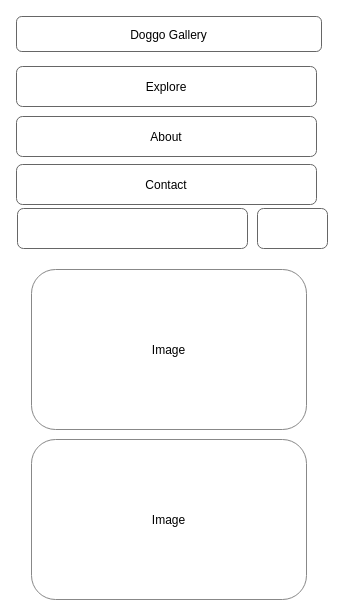
This 344x616 diagram has some shape labels left out. The shapes that lost their labels are listed below. From the top down, each one's centre as x and y in pixels, then its label:
At pixel 132 228: "Search Bar".
At pixel 292 228: "Search".
